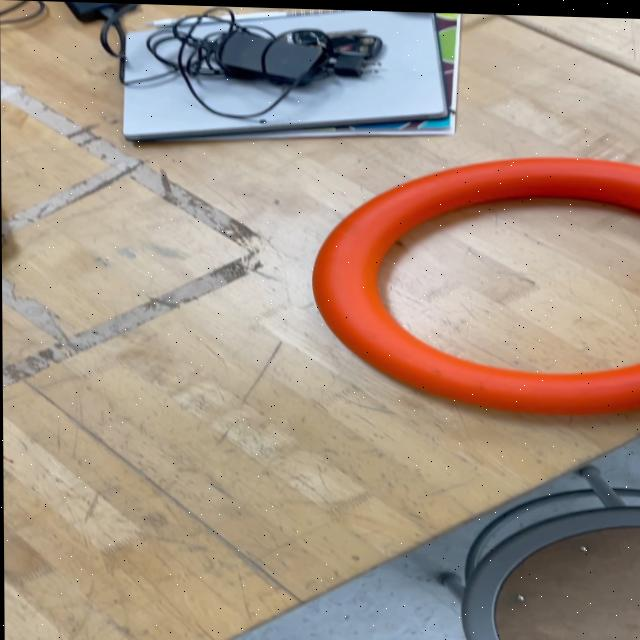note: (310, 147, 640, 415)
